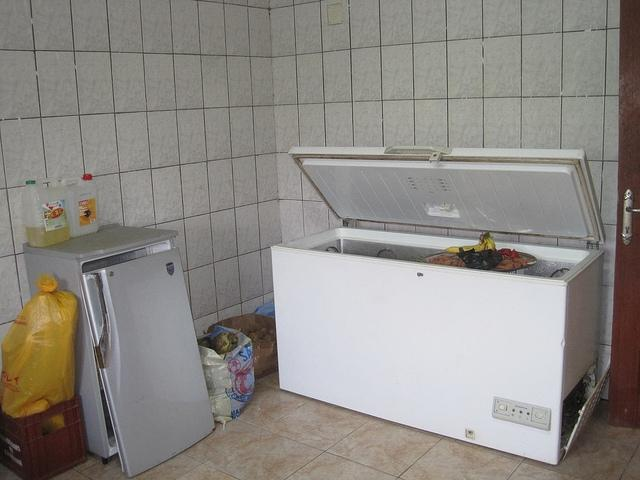banana: (444, 235, 486, 254), (484, 236, 494, 250)
